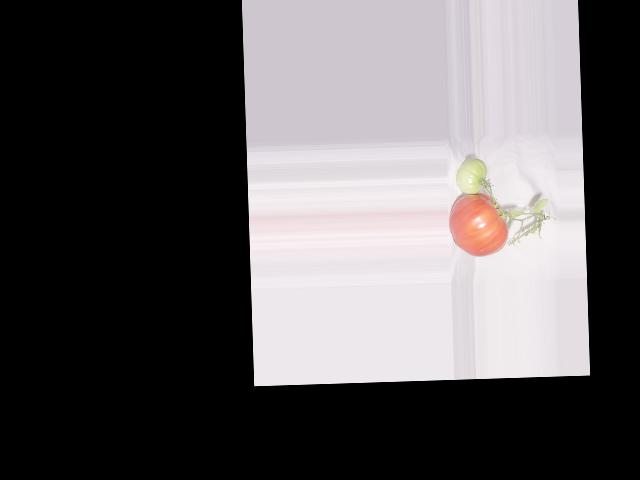tomato: (448, 191, 509, 257)
